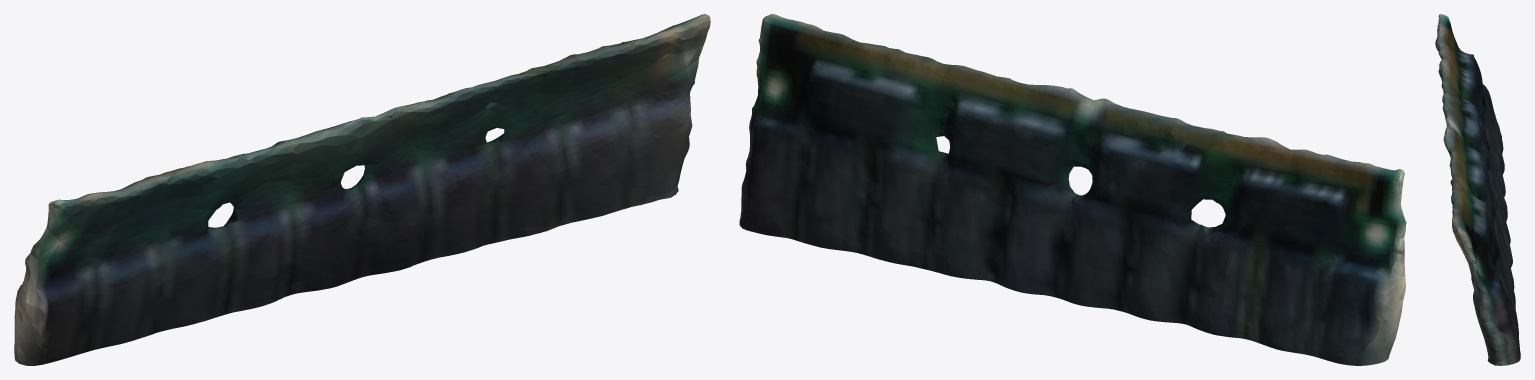
Rendered from メモリ.glb.
3 renders of one model, left to right at view 1: azimuth 30°, elevation 25°; view 2: azimuth 150°, elevation 25°; view 3: azimuth 270°, elevation 25°, orthographic. The views are drawn at different scales.
Visible parts, largest first — view 1: mesh; view 2: mesh; view 3: mesh.
Part boxes in pixels (x1,y1,x2,y2): mesh: (14,14,710,365); mesh: (739,14,1406,365); mesh: (1435,14,1520,365).
Size of the model in its own units: 0.1094 by 0.0296 by 0.0168.
Materials: 1 (1 with a texture image).
